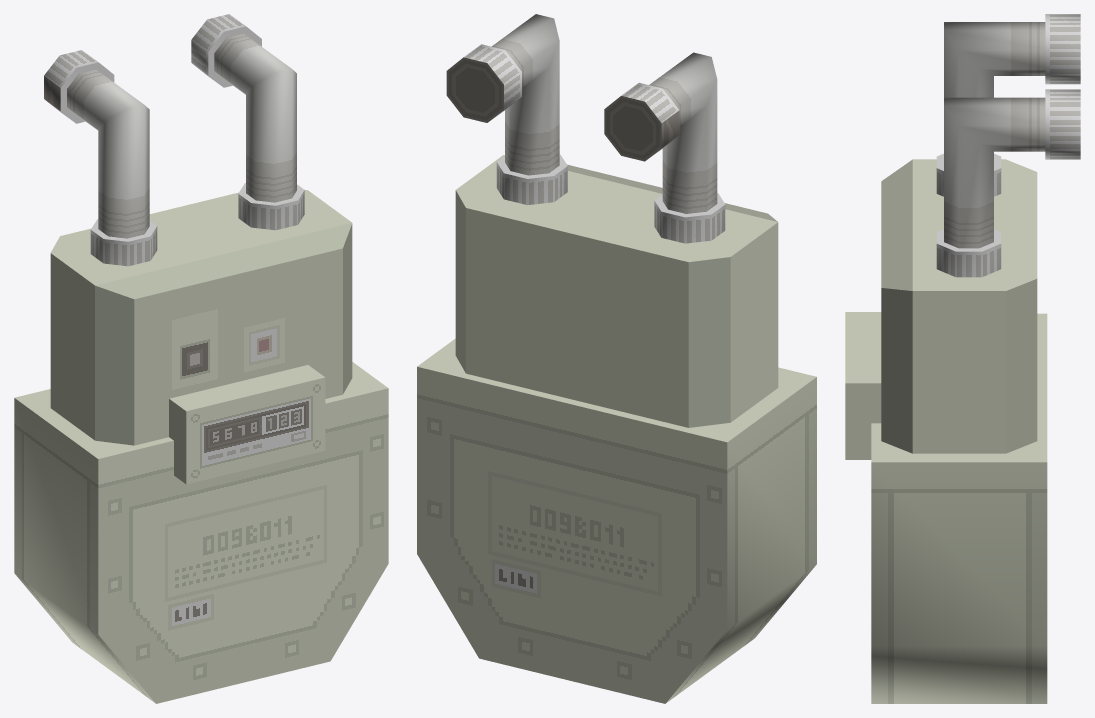
File: 02b2_Gas_Meter.glb
3 views of the same model, side by side, from view 1: azimuth 30°, elevation 25°; view 2: azimuth 150°, elevation 25°; view 3: azimuth 270°, elevation 25° (orthographic). The views are drawn at different scales.
Parts seen in each view (by area): view 1: part_0; view 2: part_0; view 3: part_0.
Part boxes in pixels (x1,y1,x2,y2): part_0: (14,14,388,703); part_0: (417,14,816,703); part_0: (845,14,1080,703).
Size of the model in its own units: 0.3199 by 0.6049 by 0.2141.
Materials: 1 (1 with a texture image).
